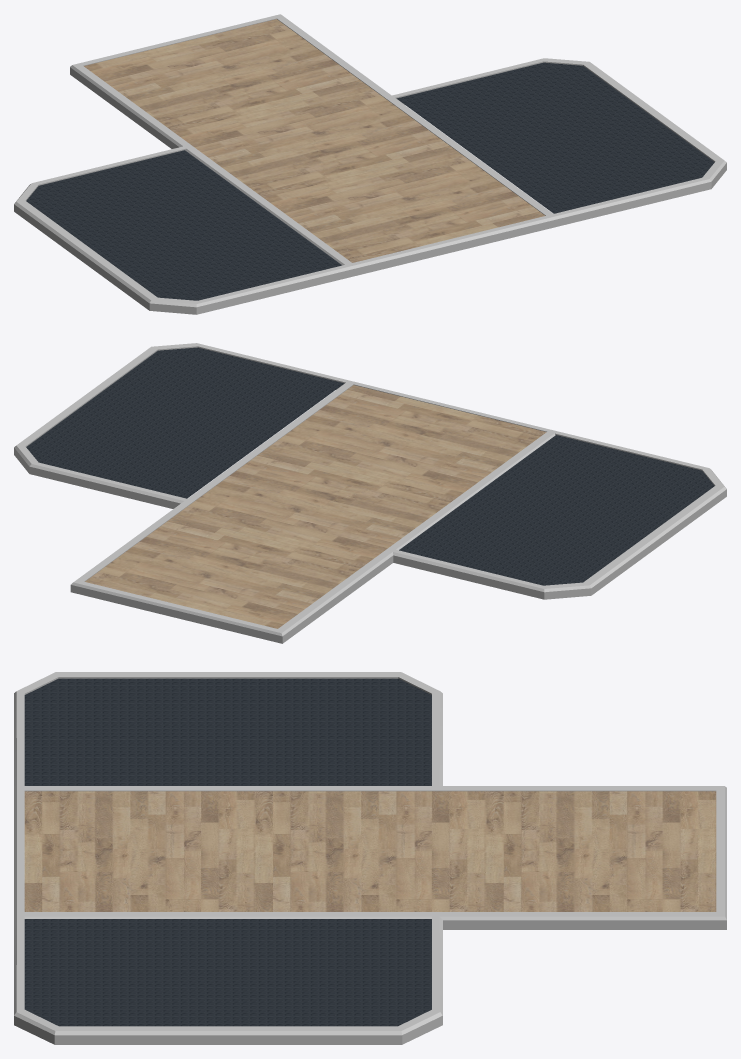
Rendered from Rack Platform.FBX.
The picture shows the model from 3 angles, top to bottom: view 1: azimuth 30°, elevation 25°; view 2: azimuth 150°, elevation 25°; view 3: azimuth 270°, elevation 25°; orthographic projection. The views are drawn at different scales.
Parts seen in each view (by area): view 1: Rack Platform; view 2: Rack Platform; view 3: Rack Platform.
Part boxes in pixels (<box>): Rack Platform: <box>14,14,726,314</box>; Rack Platform: <box>14,343,726,643</box>; Rack Platform: <box>14,672,726,1044</box>.
Bounding box in the file's own units: 2.74 × 2.28 × 0.0439.
